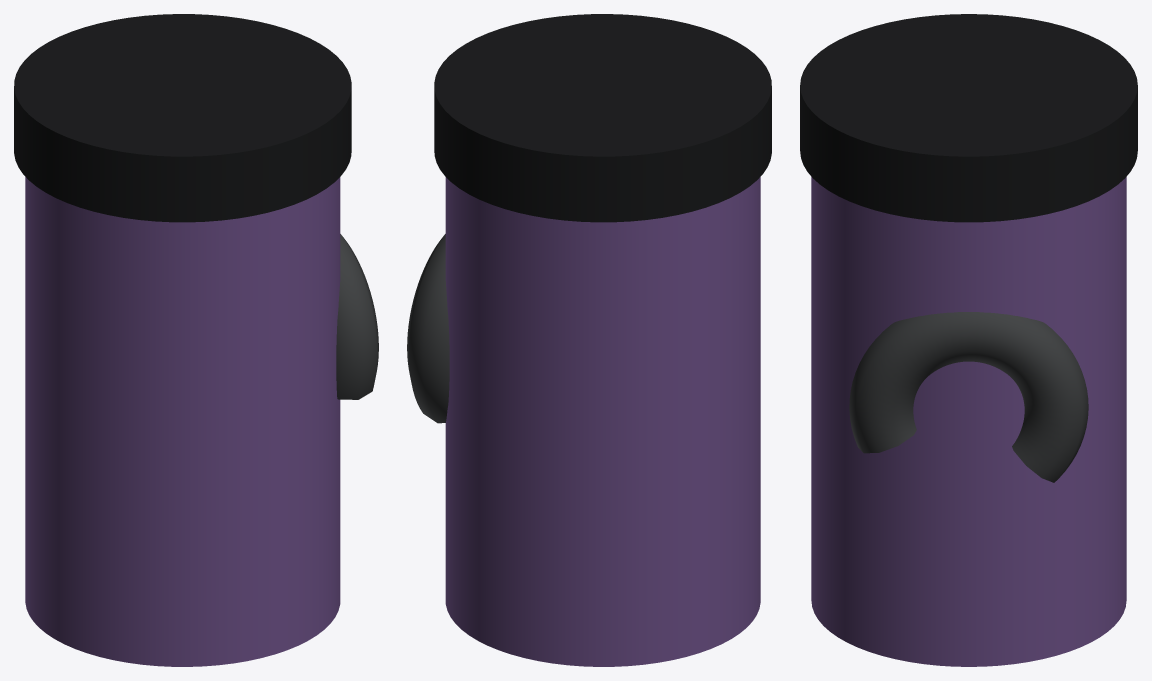
The picture shows the model from 3 angles, left to right: view 1: azimuth 30°, elevation 25°; view 2: azimuth 150°, elevation 25°; view 3: azimuth 270°, elevation 25°; orthographic projection.
Parts seen in each view (by area): view 1: cup-body, three-way-lid, handle; view 2: cup-body, three-way-lid, handle; view 3: cup-body, three-way-lid, handle.
Part boxes in pixels (x1=…): cup-body: x1=25, y1=177, x2=340, y2=666; three-way-lid: x1=14, y1=14, x2=351, y2=222; handle: x1=336, y1=234, x2=378, y2=399; cup-body: x1=445, y1=177, x2=760, y2=666; three-way-lid: x1=434, y1=14, x2=771, y2=222; handle: x1=407, y1=234, x2=449, y2=423; cup-body: x1=811, y1=177, x2=1126, y2=666; three-way-lid: x1=800, y1=14, x2=1137, y2=222; handle: x1=849, y1=312, x2=1088, y2=482.
Bounding box in the file's own units: 0.0814 × 0.1363 × 0.081.
